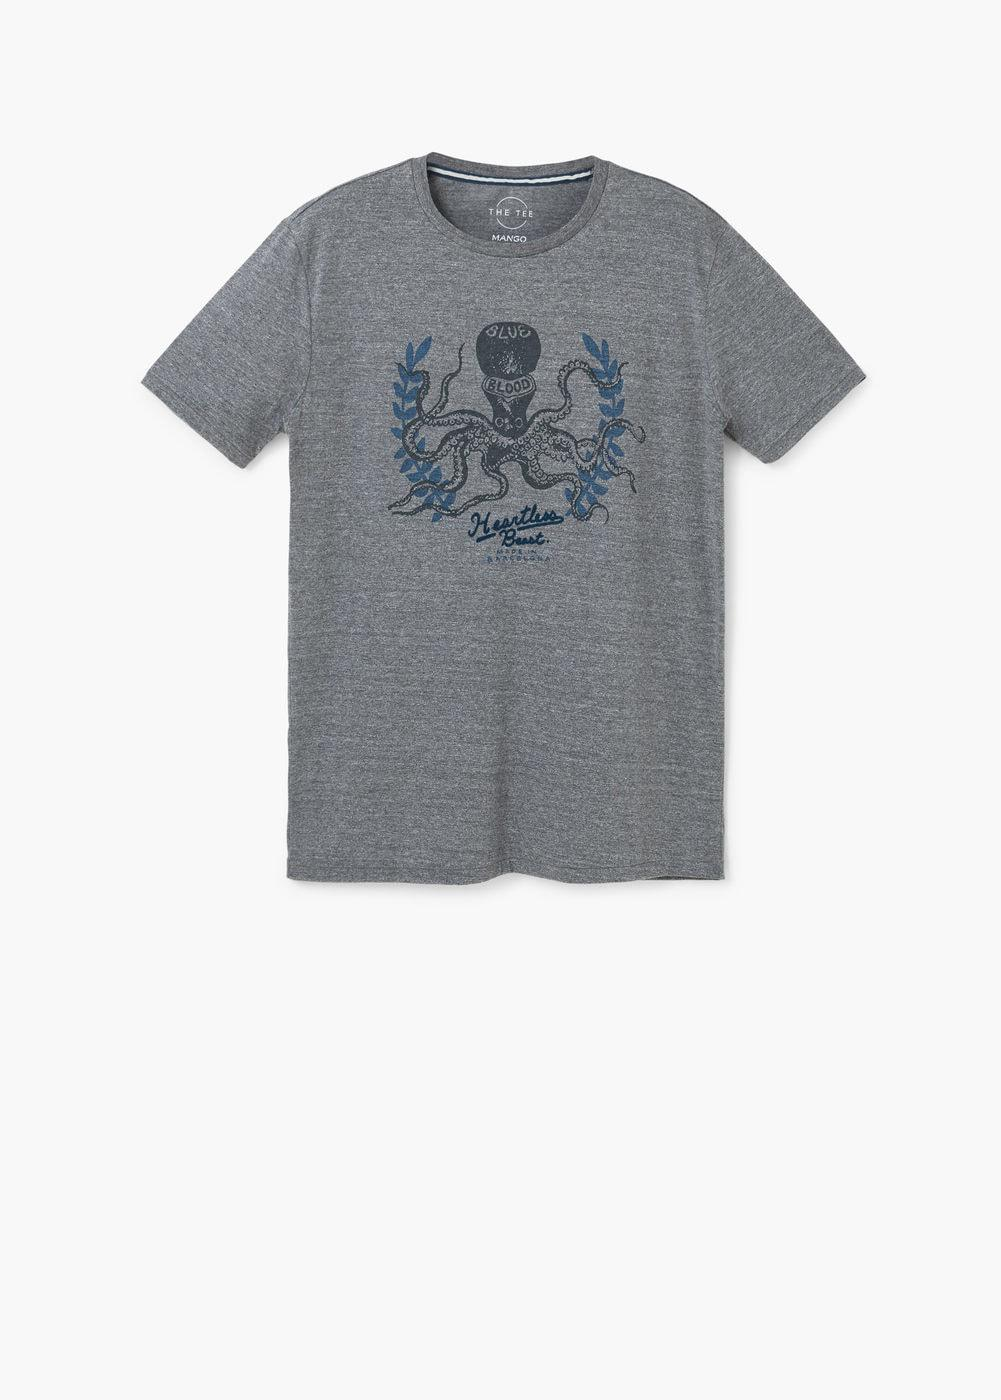teeshirt: (148, 129, 890, 1008)
